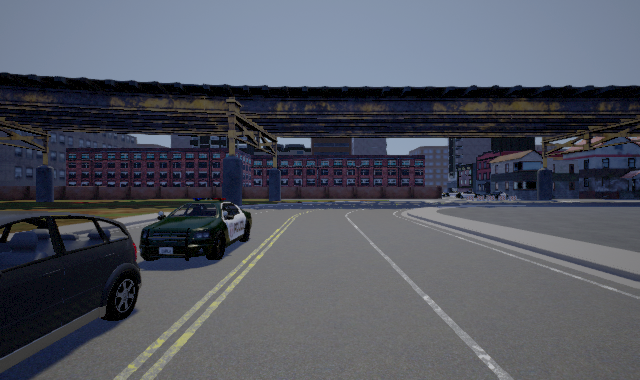vehicle: (1, 211, 142, 373), (139, 198, 252, 261)
